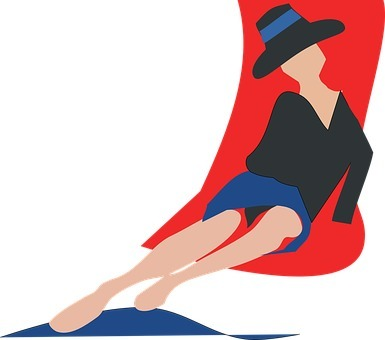person: (11, 3, 384, 334)
